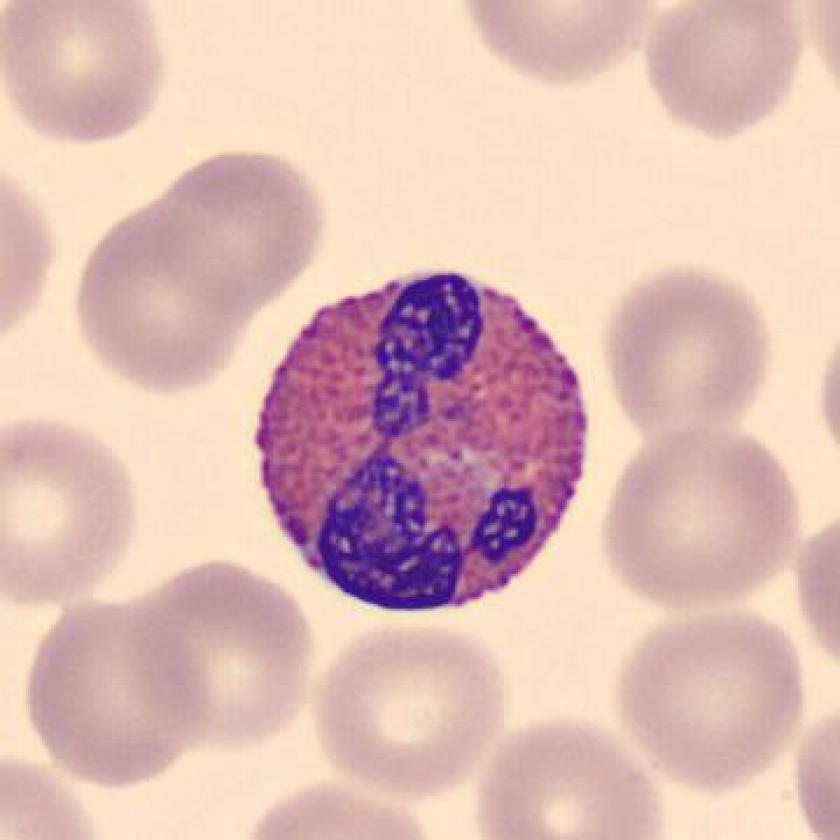eosinophil: (241, 260, 608, 635)
